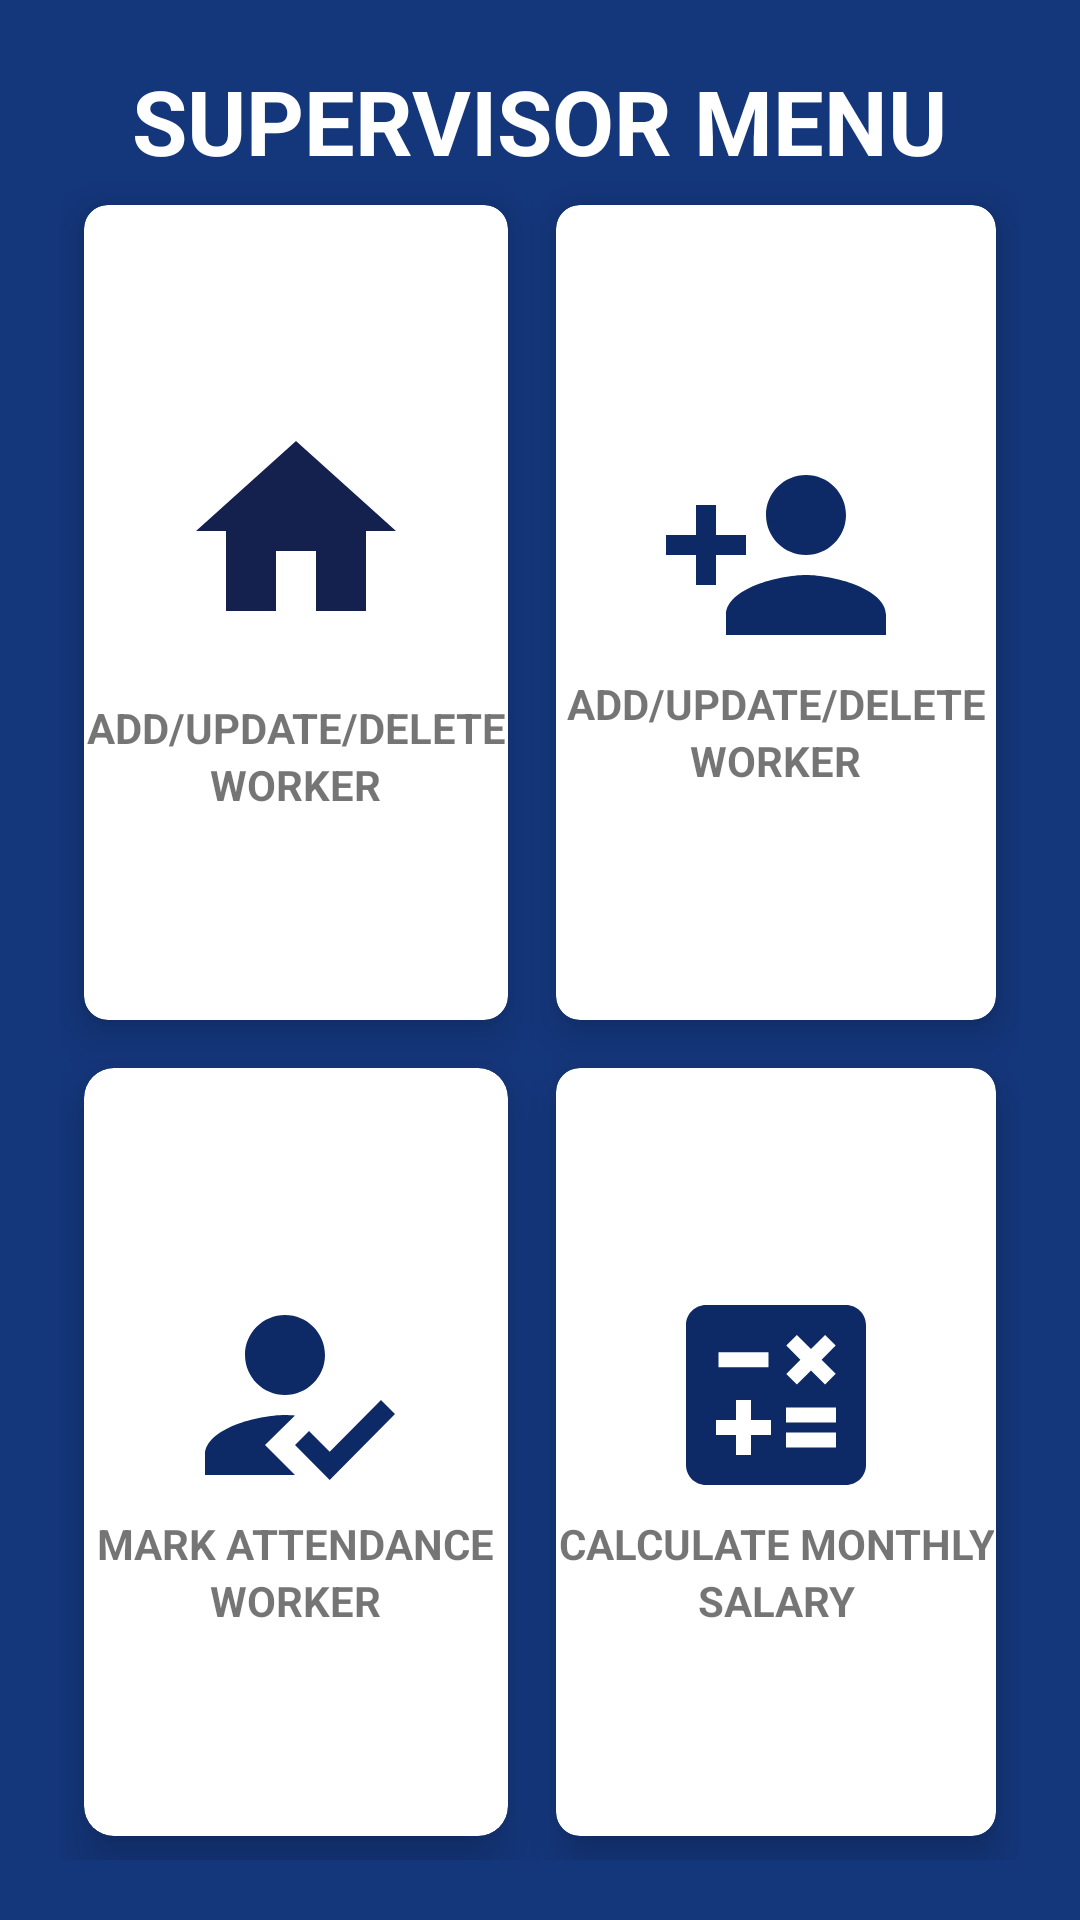

Screen size 1080px×1920px. Icon name, then its box in pixels as (x1, y1, x2, y2):
home: (196, 441, 396, 611)
